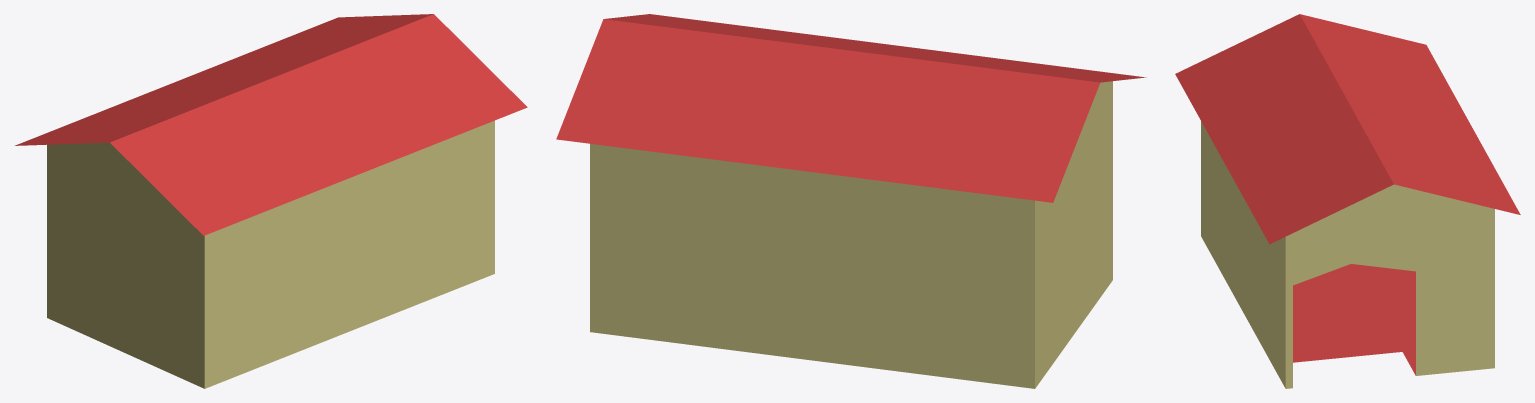
3 renders of one model, left to right at view 1: azimuth 30°, elevation 25°; view 2: azimuth 150°, elevation 25°; view 3: azimuth 270°, elevation 25°, orthographic. The views are drawn at different scales.
Size of the model in its own units: 21.39 by 16 by 10.37.
